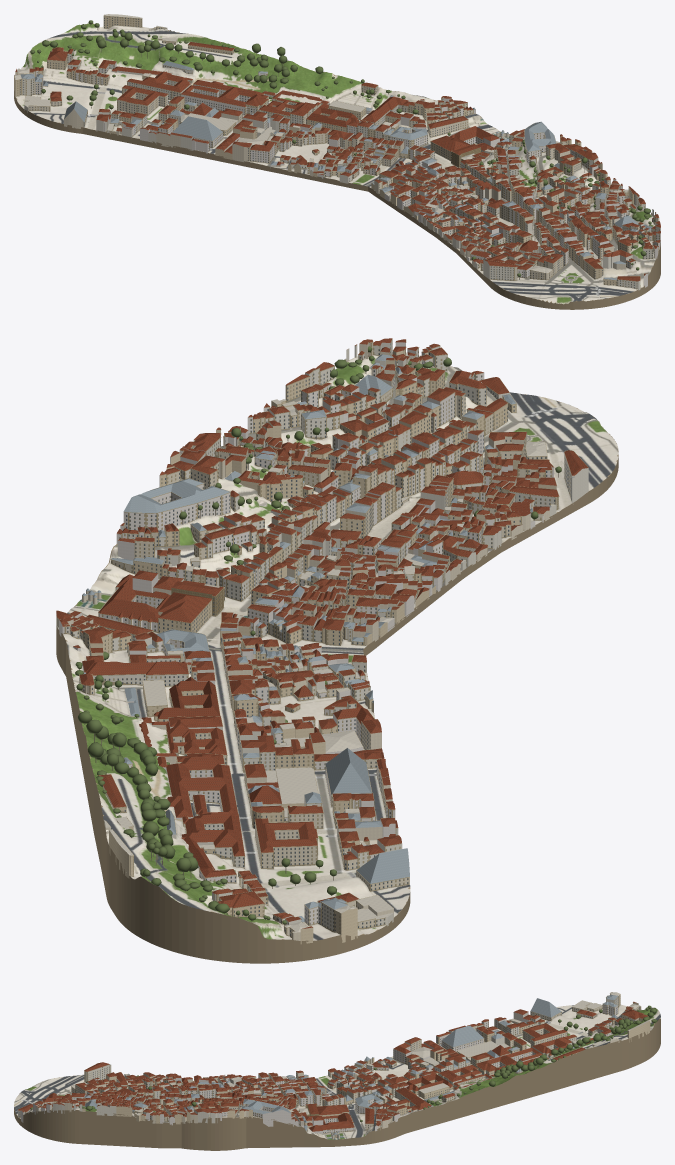
The model's file is baixa.glb.
3 views of the same model, one above another, from view 1: azimuth 30°, elevation 25°; view 2: azimuth 150°, elevation 25°; view 3: azimuth 270°, elevation 25° (orthographic). The views are drawn at different scales.
Parts seen in each view (by area): view 1: Edif_contexto, Terreno, Rico_cantaria, Arvores, Rico_janela; view 2: Edif_contexto, Terreno, Rico_cantaria, Arvores, Rico_janela; view 3: Edif_contexto, Terreno, Rico_cantaria, Arvores, Rico_janela.
Boxes of the visible parts, x1,y1,x2,y2 form: Edif_contexto: (14, 14, 660, 290); Terreno: (14, 23, 660, 309); Rico_cantaria: (16, 15, 659, 289); Arvores: (30, 20, 655, 277); Rico_janela: (20, 17, 659, 288); Edif_contexto: (56, 338, 588, 944); Terreno: (56, 352, 618, 963); Rico_cantaria: (58, 338, 588, 939); Arvores: (75, 346, 561, 924); Rico_janela: (67, 344, 571, 935); Edif_contexto: (18, 992, 650, 1139); Terreno: (14, 1004, 660, 1150); Rico_cantaria: (19, 992, 648, 1137); Arvores: (30, 1005, 656, 1121); Rico_janela: (19, 997, 638, 1132).
Bounding box in the file's own units: 532 × 73.93 × 1037.
Materials: 14 (11 with a texture image).
